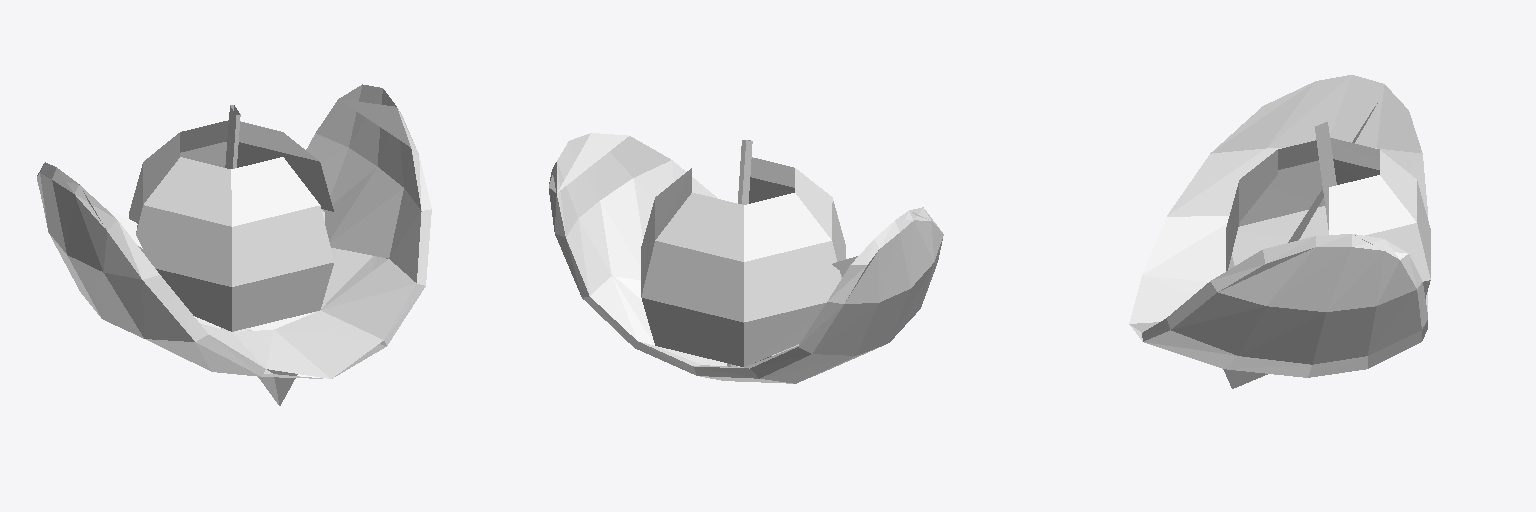
Rendered from ZPOD.obj.
3 renders of one model, left to right at view 1: azimuth 30°, elevation 25°; view 2: azimuth 150°, elevation 25°; view 3: azimuth 270°, elevation 25°, orthographic.
Parts seen in each view (by area): view 1: ZPOD_node01_face01, ZPOD_node00_face01, ZPOD_node01_face00, ZPOD_node00_face00; view 2: ZPOD_node01_face01, ZPOD_node00_face01, ZPOD_node01_face00, ZPOD_node00_face00; view 3: ZPOD_node01_face01, ZPOD_node00_face01, ZPOD_node03_face00, ZPOD_node01_face00.
Part boxes in pixels (left/top/right/bottom): ZPOD_node01_face01: left=37, top=120, right=431, bottom=405; ZPOD_node00_face01: left=37, top=84, right=431, bottom=378; ZPOD_node01_face00: left=52, top=99, right=410, bottom=373; ZPOD_node00_face00: left=222, top=105, right=381, bottom=339; ZPOD_node01_face01: left=555, top=157, right=943, bottom=383; ZPOD_node00_face01: left=549, top=133, right=930, bottom=366; ZPOD_node01_face00: left=549, top=133, right=928, bottom=362; ZPOD_node00_face00: left=739, top=140, right=752, bottom=204; ZPOD_node01_face01: left=1129, top=75, right=1430, bottom=388; ZPOD_node00_face01: left=1129, top=131, right=1422, bottom=332; ZPOD_node03_face00: left=1315, top=124, right=1336, bottom=229; ZPOD_node01_face00: left=1288, top=103, right=1399, bottom=259.
Bounding box in the file's own units: 478 × 363 × 372.